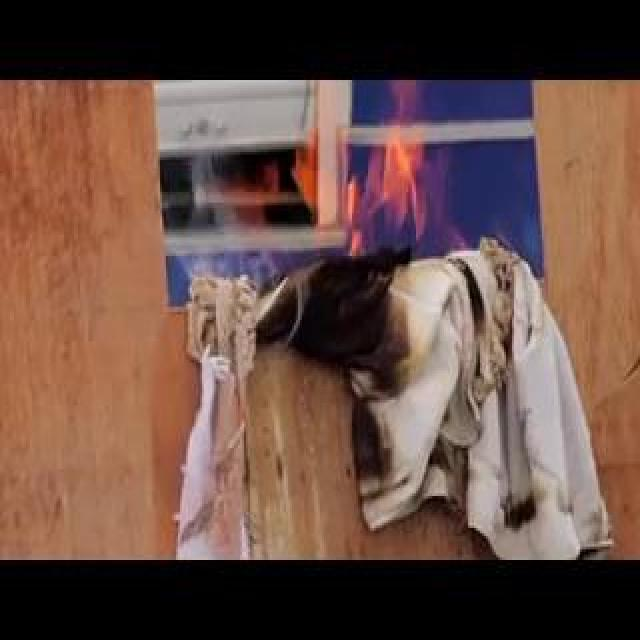fire: (350, 119, 421, 247)
